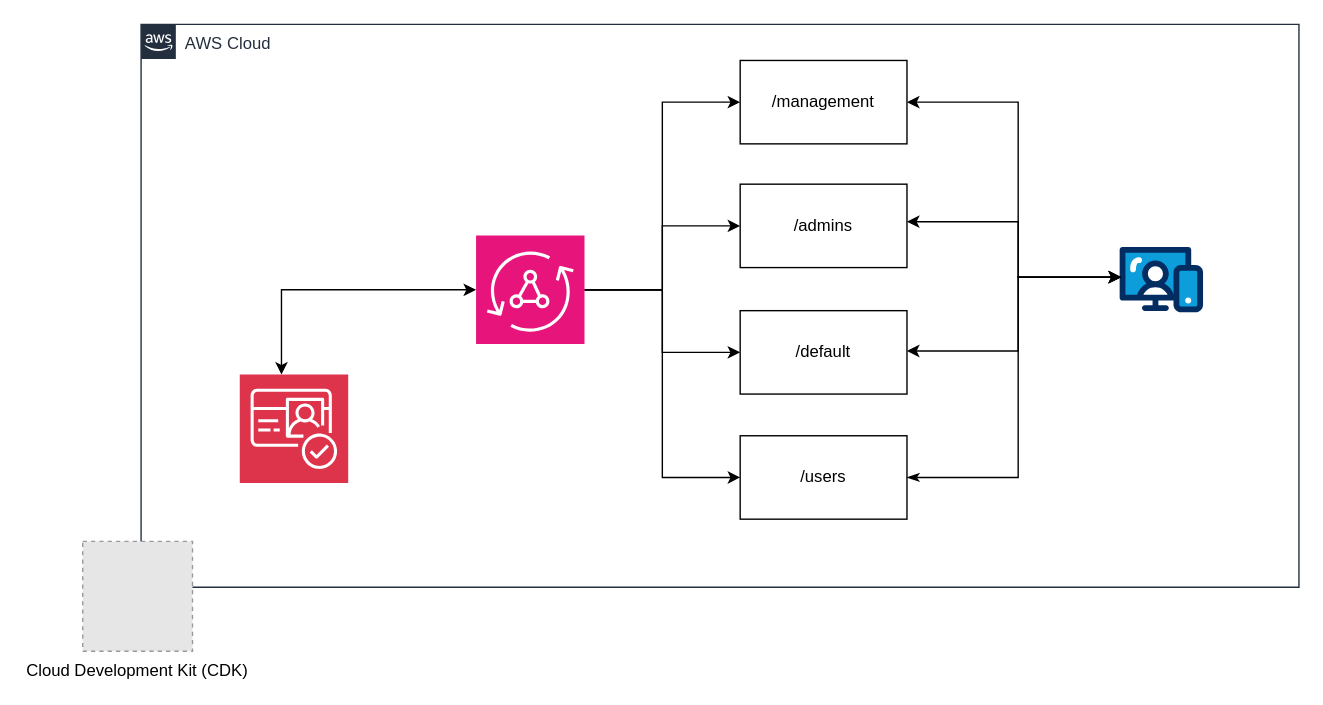
Image size: 1323x705. Some labels were removed from this diagram. Grey dashed boxes stand in for pictures. Here are the shapes that lost their labels. From the top down, the centre of each, then its label:
At [529,289]: "AWS AppSync Event API".
At [1160,279]: "Web App".
At [293,428]: "AWS Cognito User Pool".
